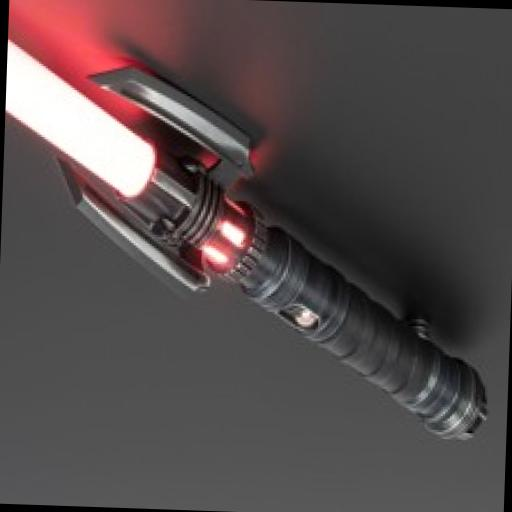sith saber: (0, 37, 495, 440)
